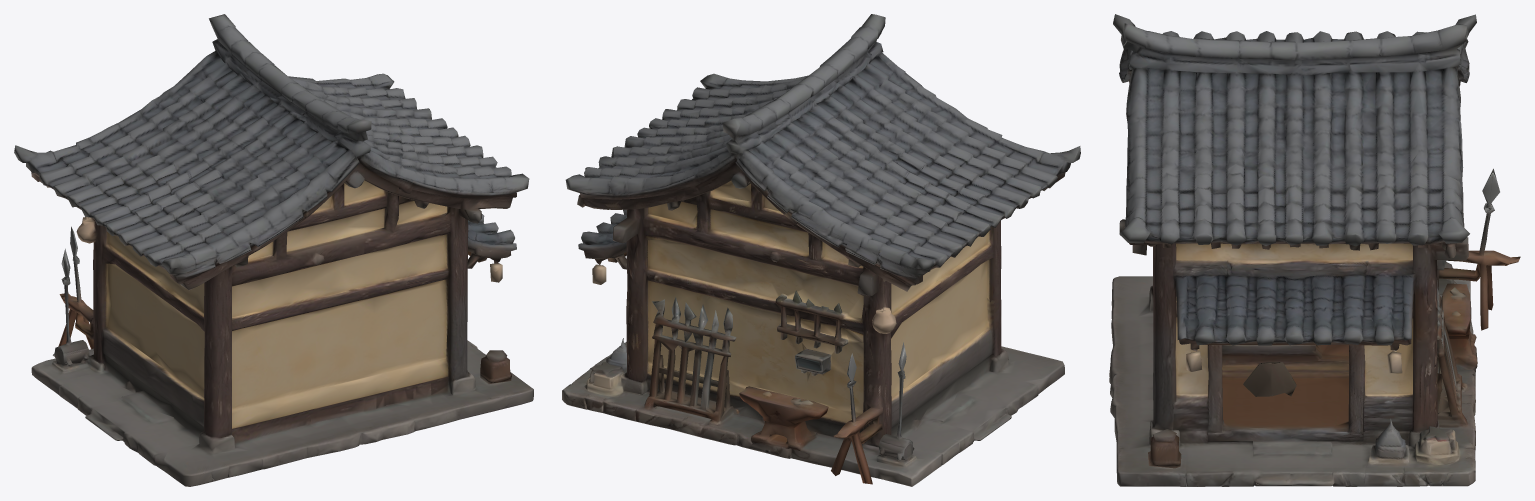
3 views of the same model, side by side, from view 1: azimuth 30°, elevation 25°; view 2: azimuth 150°, elevation 25°; view 3: azimuth 270°, elevation 25° (orthographic). The views are drawn at different scales.
Parts seen in each view (by area): view 1: tripo_node_947fbf29-007a-48e6-90fe-bd718eb20208; view 2: tripo_node_947fbf29-007a-48e6-90fe-bd718eb20208; view 3: tripo_node_947fbf29-007a-48e6-90fe-bd718eb20208.
Boxes of the visible parts, x1=… form: tripo_node_947fbf29-007a-48e6-90fe-bd718eb20208: x1=14, y1=14, x2=533, y2=486; tripo_node_947fbf29-007a-48e6-90fe-bd718eb20208: x1=562, y1=14, x2=1080, y2=486; tripo_node_947fbf29-007a-48e6-90fe-bd718eb20208: x1=1109, y1=14, x2=1520, y2=486.
Bounding box in the file's own units: 1 × 0.8016 × 0.8109.
Materials: 1 (1 with a texture image).
